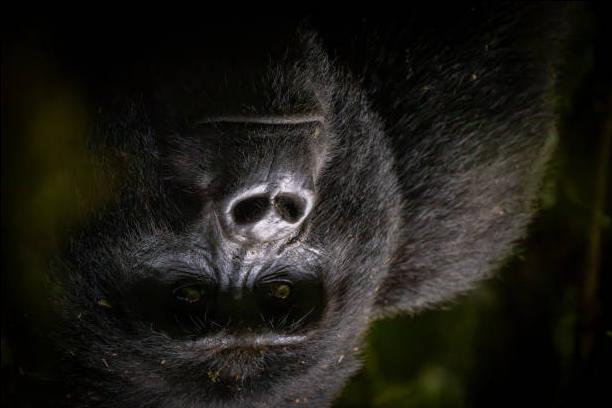goriile_montagne: (35, 20, 546, 408)
